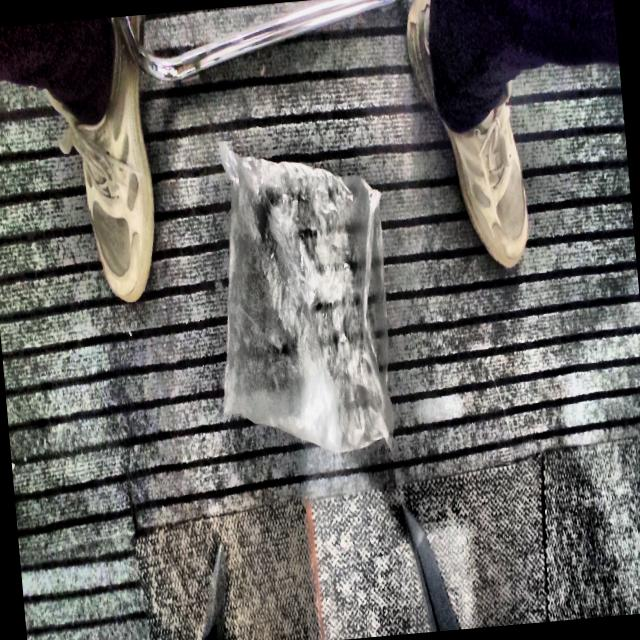plastic bag: (220, 142, 393, 453)
